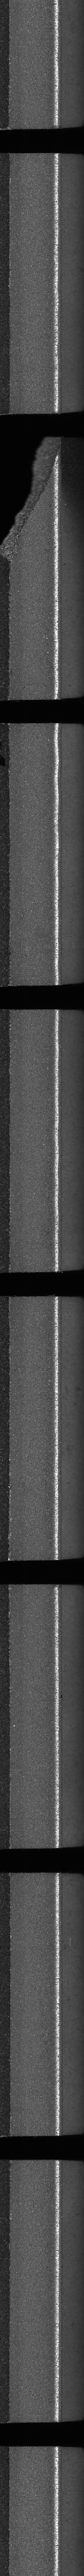Chip: (0, 433, 57, 559)
